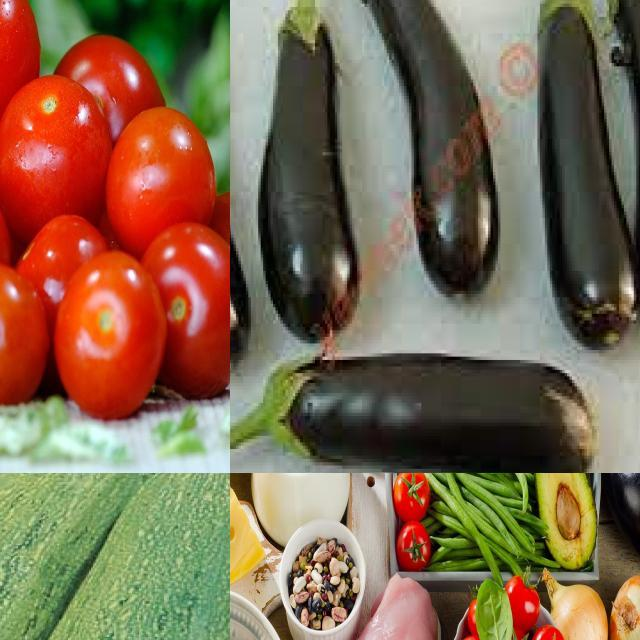eggplant: (343, 1, 493, 291), (264, 348, 595, 474), (256, 1, 360, 337), (533, 1, 634, 344), (602, 1, 640, 318)
onion: (543, 573, 612, 640), (613, 572, 640, 640)
tomato: (54, 253, 168, 425), (1, 76, 108, 247), (108, 109, 218, 257), (144, 216, 231, 397), (54, 32, 170, 144), (1, 264, 50, 407), (1, 1, 39, 152), (204, 189, 231, 365), (504, 568, 543, 628), (394, 523, 433, 575), (397, 474, 429, 516), (534, 625, 568, 640)
zucchini: (1, 474, 231, 640)
